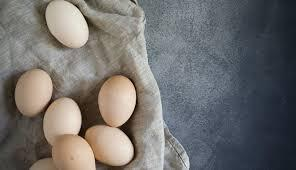egg: (42, 0, 96, 50), (96, 74, 138, 128), (85, 122, 134, 168), (44, 95, 84, 149), (13, 67, 54, 119), (49, 131, 97, 170)
